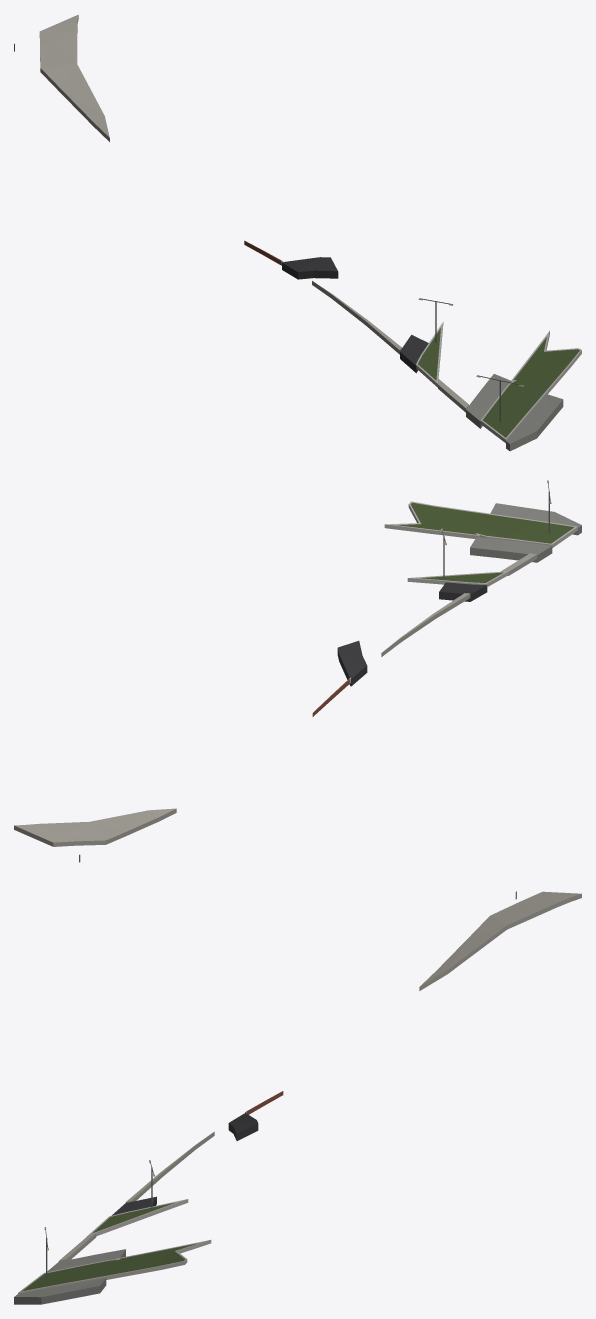
3 renders of one model, top to bottom at view 1: azimuth 30°, elevation 25°; view 2: azimuth 150°, elevation 25°; view 3: azimuth 330°, elevation 25°, orthographic.
Bounding box in the file's own units: 20.7 × 10.66 × 146.
